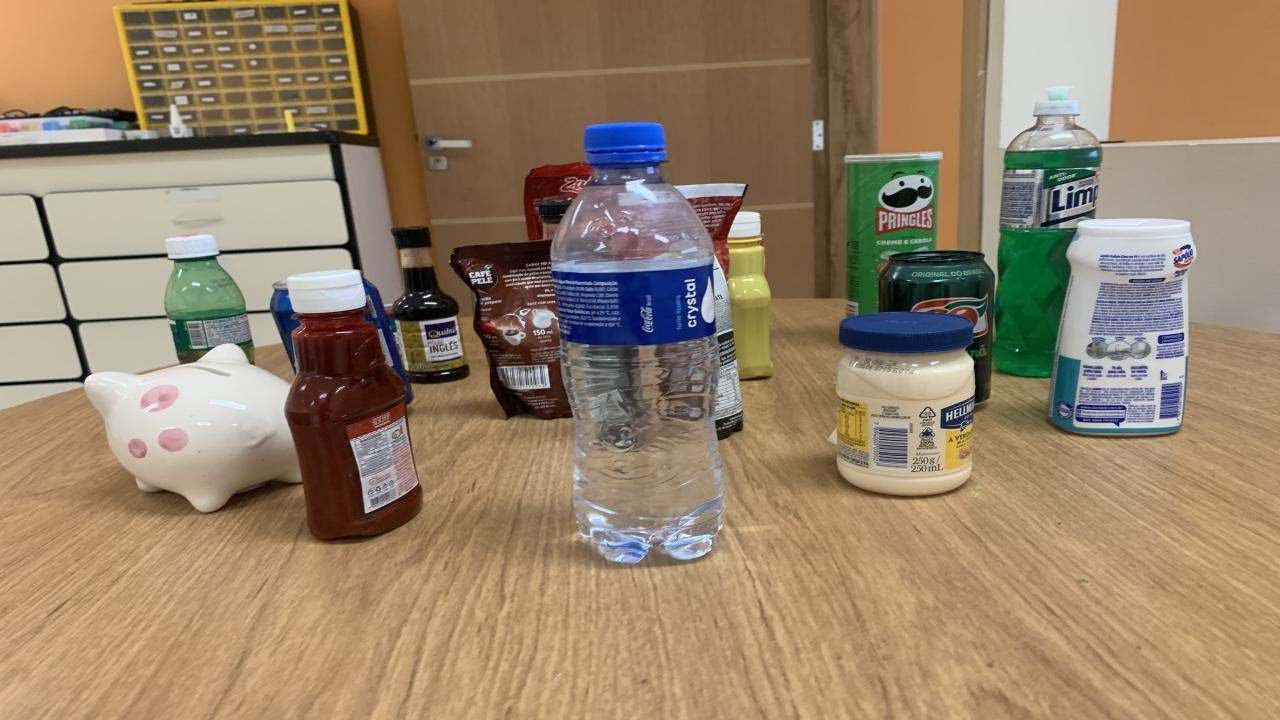Cleaner-Cleanup_Items: (1048, 218, 1195, 435)
Coffee-Pantry_Items: (450, 240, 572, 418)
Detergent-Cleanup_Items: (992, 86, 1102, 377)
English_Sauce-Pantry_Items: (392, 227, 470, 382)
Guarana-Drinks: (165, 234, 255, 364)
Guarana_Can-Drinks: (878, 251, 995, 401)
Ketchup-Pantry_Items: (285, 270, 422, 540)
Mayonnaise-Pantry_Items: (838, 311, 975, 495)
Mustard-Pantry_Items: (728, 212, 772, 379)
Pig_Safe-Miscellaneous: (85, 345, 302, 512)
Pringles-Snacks: (845, 152, 942, 315)
Tomato_Sauce-Pantry_Items: (675, 184, 748, 439), (525, 163, 592, 240)
Tonic-Drinks: (362, 278, 412, 403), (270, 279, 300, 371)
Water_Bottle-Drinks: (550, 124, 725, 564)
